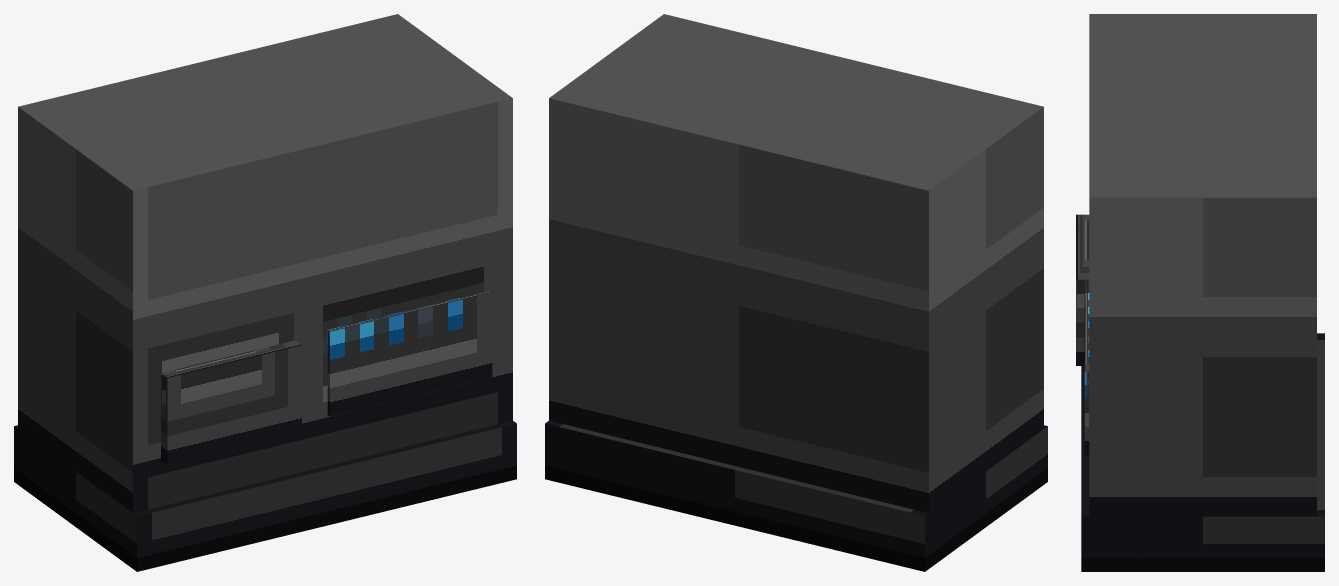
Rendered from telecomms_server.glb.
3 views of the same model, side by side, from view 1: azimuth 30°, elevation 25°; view 2: azimuth 150°, elevation 25°; view 3: azimuth 270°, elevation 25° (orthographic).
Parts seen in each view (by area): view 1: Server_Chassis, Status_comm_server, Service_Hatch; view 2: Server_Chassis; view 3: Server_Chassis, Service_Hatch, Status_comm_server.
Boxes of the visible parts, box(x1,y1,x2,y2) form: Server_Chassis: box(14, 14, 516, 571); Status_comm_server: box(327, 290, 492, 416); Service_Hatch: box(161, 340, 301, 465); Server_Chassis: box(545, 14, 1047, 571); Server_Chassis: box(1081, 14, 1324, 571); Service_Hatch: box(1076, 214, 1089, 365); Status_comm_server: box(1084, 293, 1089, 455).
Size of what is drawn, in the model's own units: 1.64 by 1.56 by 0.94.
1 material, 1 textured.
